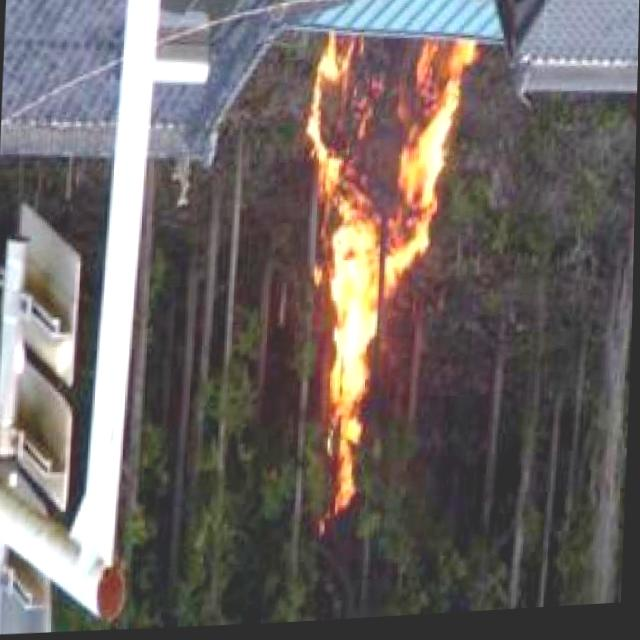helmet: (291, 27, 468, 507)
